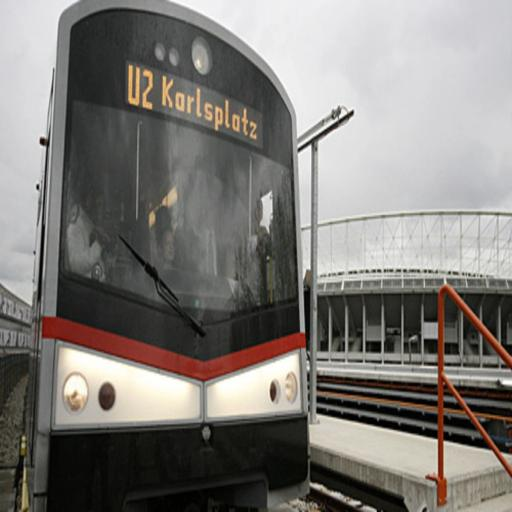V-Wagen: (26, 0, 313, 507)
